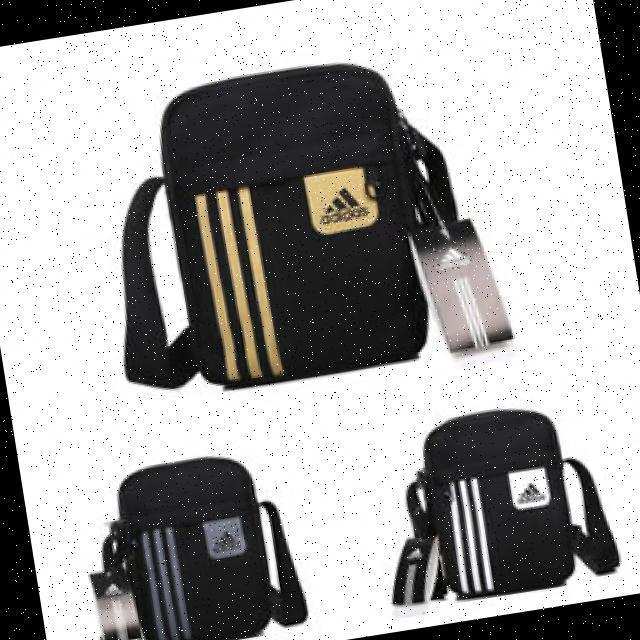Adidas: (316, 184, 373, 229), (430, 240, 475, 274), (511, 477, 549, 512), (209, 520, 242, 553)
